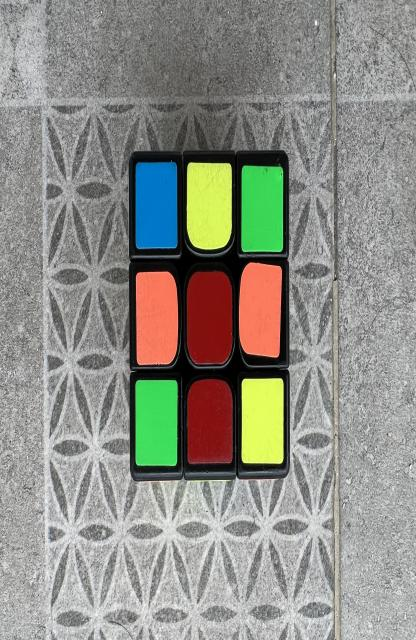Blue: (136, 162, 177, 248)
Green: (241, 165, 284, 253), (135, 380, 178, 467)
Orange: (239, 263, 282, 358), (136, 272, 178, 365)
Red: (187, 272, 232, 365), (188, 378, 232, 463)
Yellow: (187, 162, 232, 250), (241, 378, 284, 465)
